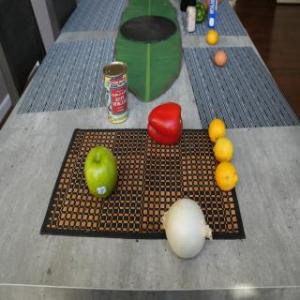bell_pepper: (148, 100, 184, 146), (195, 2, 205, 24)
egg: (214, 53, 228, 68)
onion: (160, 198, 212, 262)
